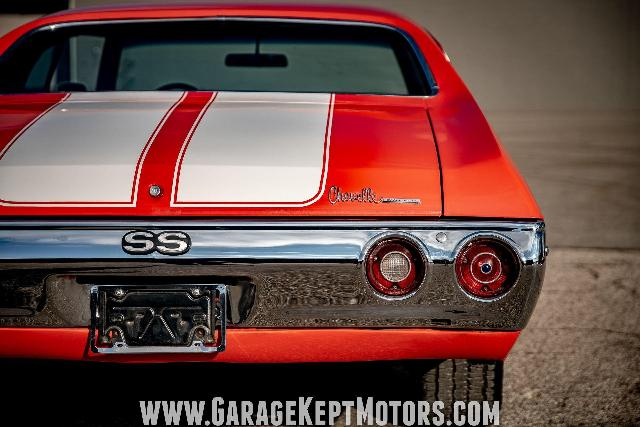chevelle-1972: (0, 4, 548, 404)
